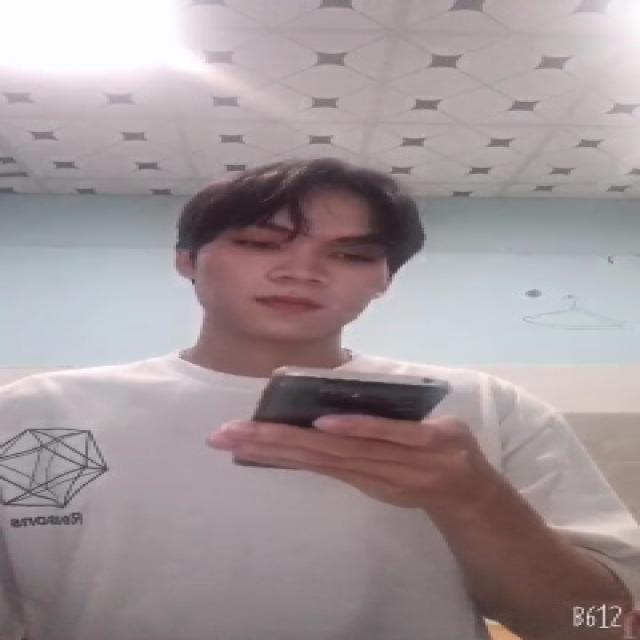Phone: (248, 368, 457, 434)
